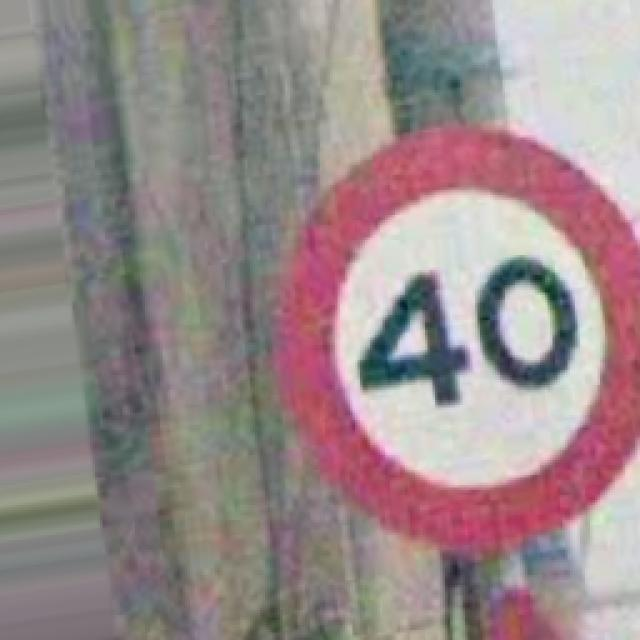Speed Limit -40-: (278, 125, 638, 552)
